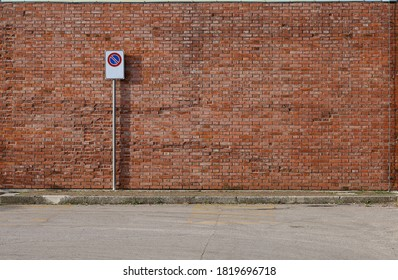Wall: (166, 31, 293, 188)
